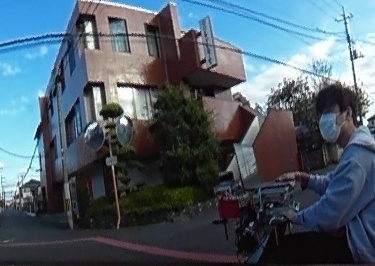person: (289, 89, 375, 266)
